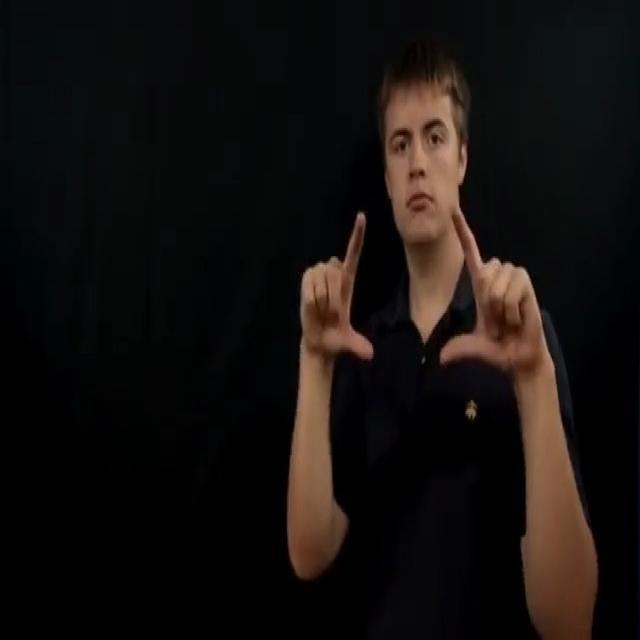bill: (297, 194, 553, 410)
